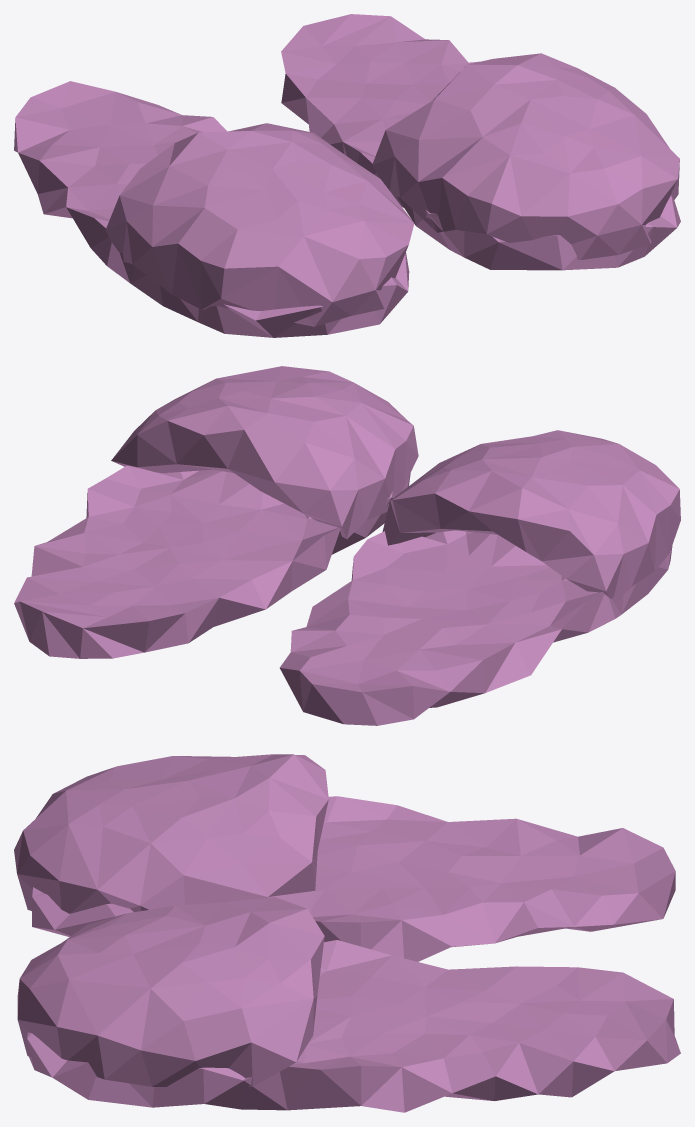
File: item_slippers.fbx
The picture shows the model from 3 angles, top to bottom: view 1: azimuth 30°, elevation 25°; view 2: azimuth 150°, elevation 25°; view 3: azimuth 270°, elevation 25°; orthographic projection. The views are drawn at different scales.
Parts seen in each view (by area): view 1: item_slippers; view 2: item_slippers; view 3: item_slippers.
Boxes of the visible parts, x1,y1,x2,y2 form: item_slippers: [14, 14, 680, 337]; item_slippers: [14, 366, 680, 725]; item_slippers: [14, 754, 680, 1112].
Size of the model in its own units: 27.67 by 6.65 by 28.11.
